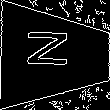N_E: (30, 35, 81, 77)
